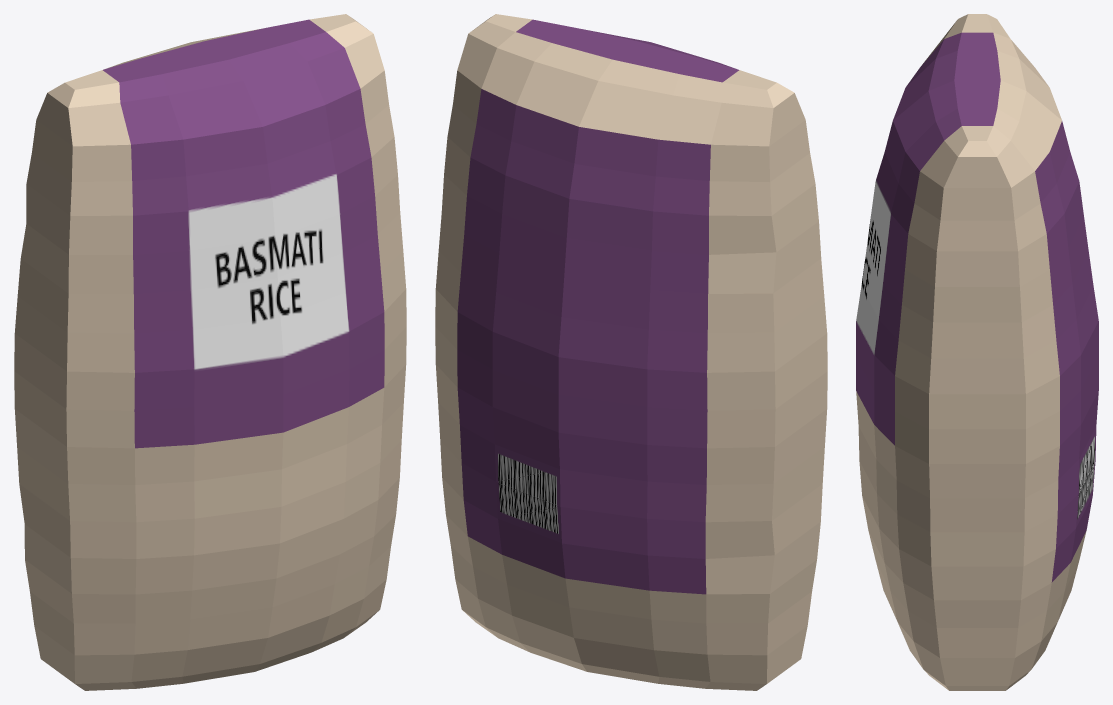
File: basmati_rice.glb
The picture shows the model from 3 angles, left to right: view 1: azimuth 30°, elevation 25°; view 2: azimuth 150°, elevation 25°; view 3: azimuth 270°, elevation 25°; orthographic projection. The views are drawn at different scales.
Parts seen in each view (by area): view 1: Cube; view 2: Cube; view 3: Cube.
Part boxes in pixels (bbox=[...]): Cube: bbox=[14, 14, 406, 690]; Cube: bbox=[435, 14, 827, 690]; Cube: bbox=[856, 14, 1098, 690].
Size of the model in its own units: 0.15 by 0.25 by 0.1.
Materials: 1 (1 with a texture image).
